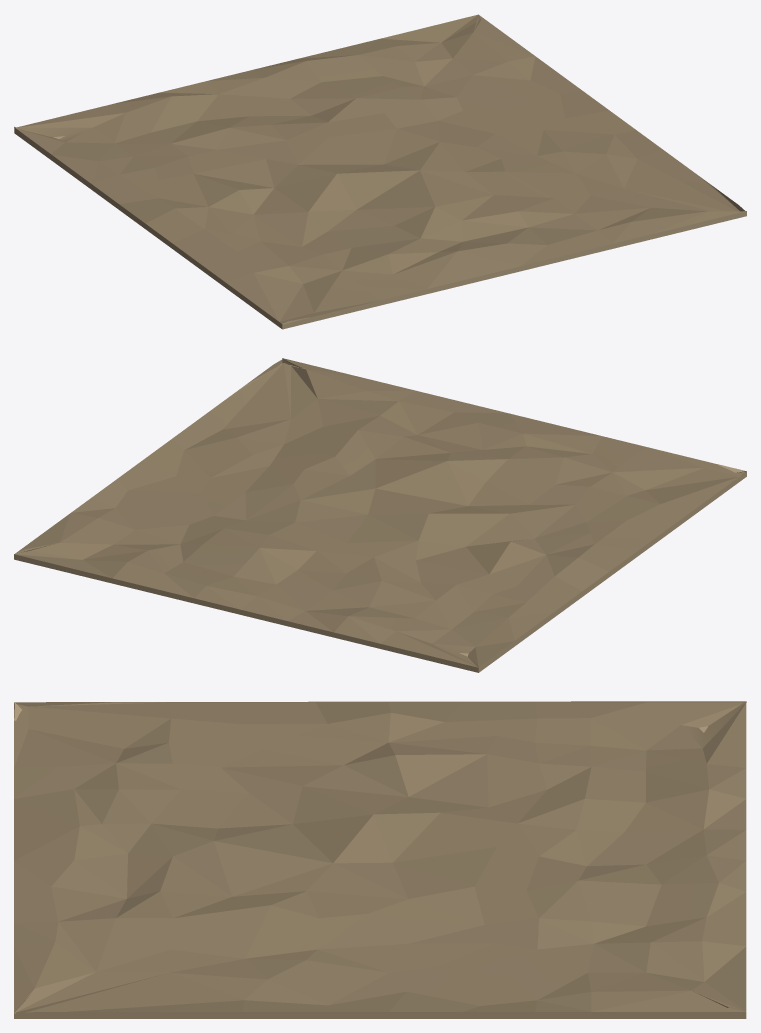
Rendered from SM_Road_22.fbx.
3 renders of one model, top to bottom at view 1: azimuth 30°, elevation 25°; view 2: azimuth 150°, elevation 25°; view 3: azimuth 270°, elevation 25°, orthographic. The views are drawn at different scales.
Parts seen in each view (by area): view 1: SM_road_15; view 2: SM_road_15; view 3: SM_road_15.
Boxes of the visible parts, x1,y1,x2,y2 form: SM_road_15: [14, 14, 746, 329]; SM_road_15: [14, 358, 746, 672]; SM_road_15: [14, 701, 746, 1018].
Bounding box in the file's own units: 400 × 12.82 × 400.
